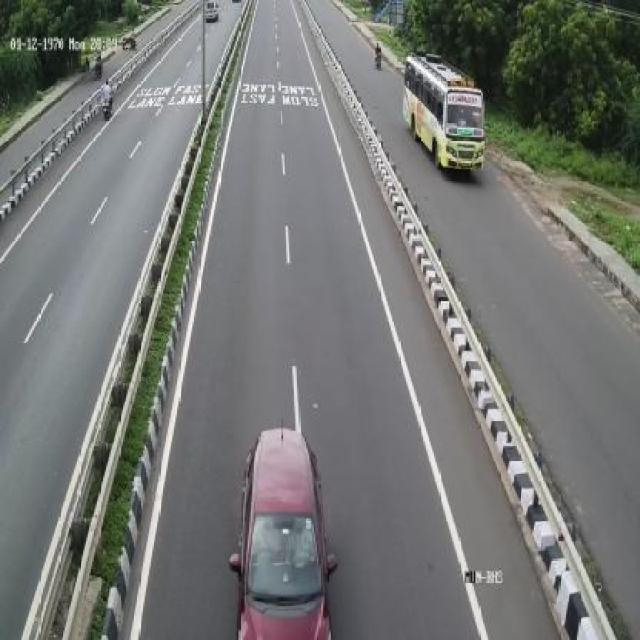car: (228, 427, 343, 636)
